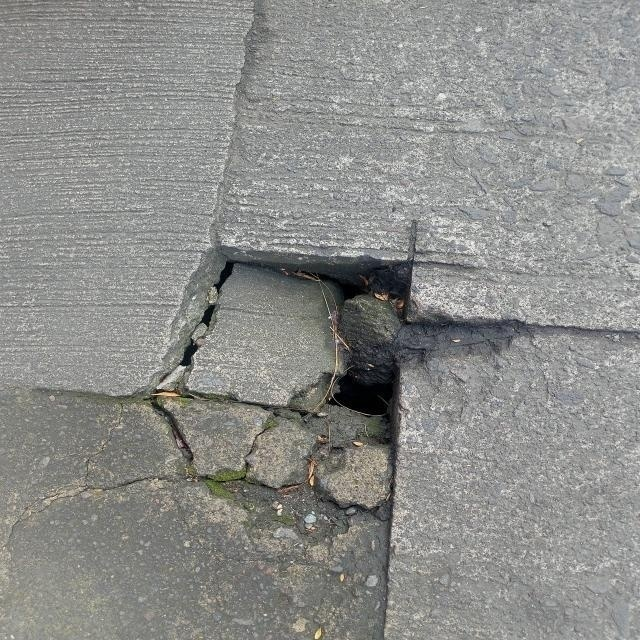pothole: (60, 211, 508, 594)
